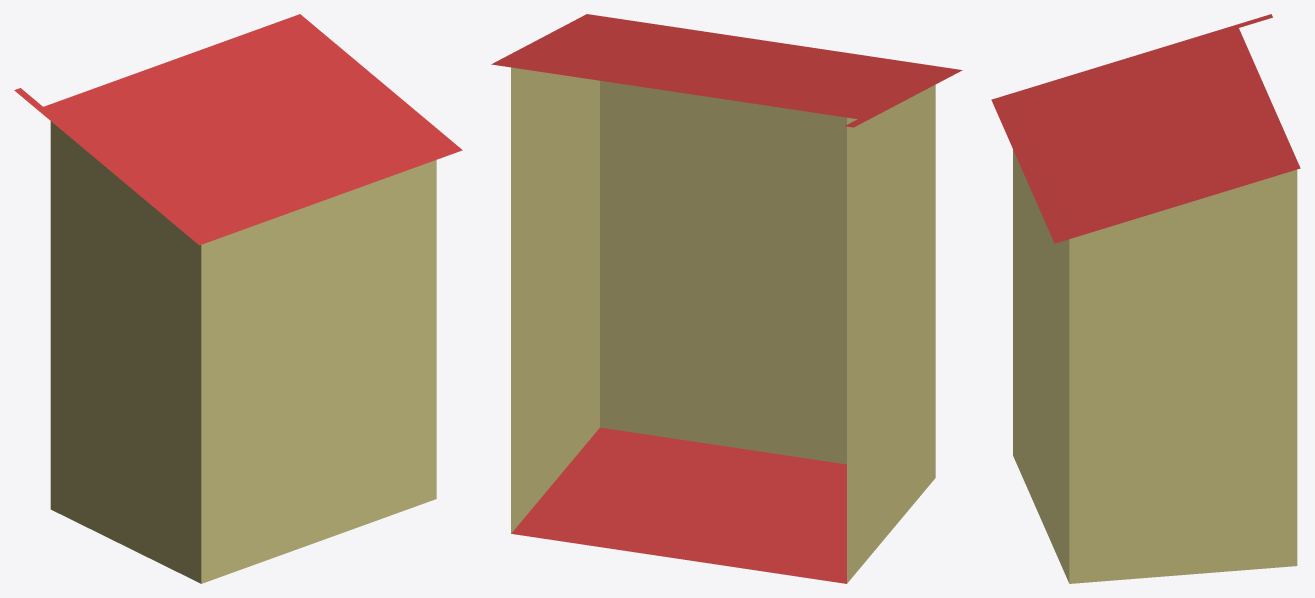
3 views of the same model, side by side, from view 1: azimuth 30°, elevation 25°; view 2: azimuth 150°, elevation 25°; view 3: azimuth 270°, elevation 25° (orthographic). The views are drawn at different scales.
Bounding box in the file's own units: 5.3 × 4.18 × 6.15.
